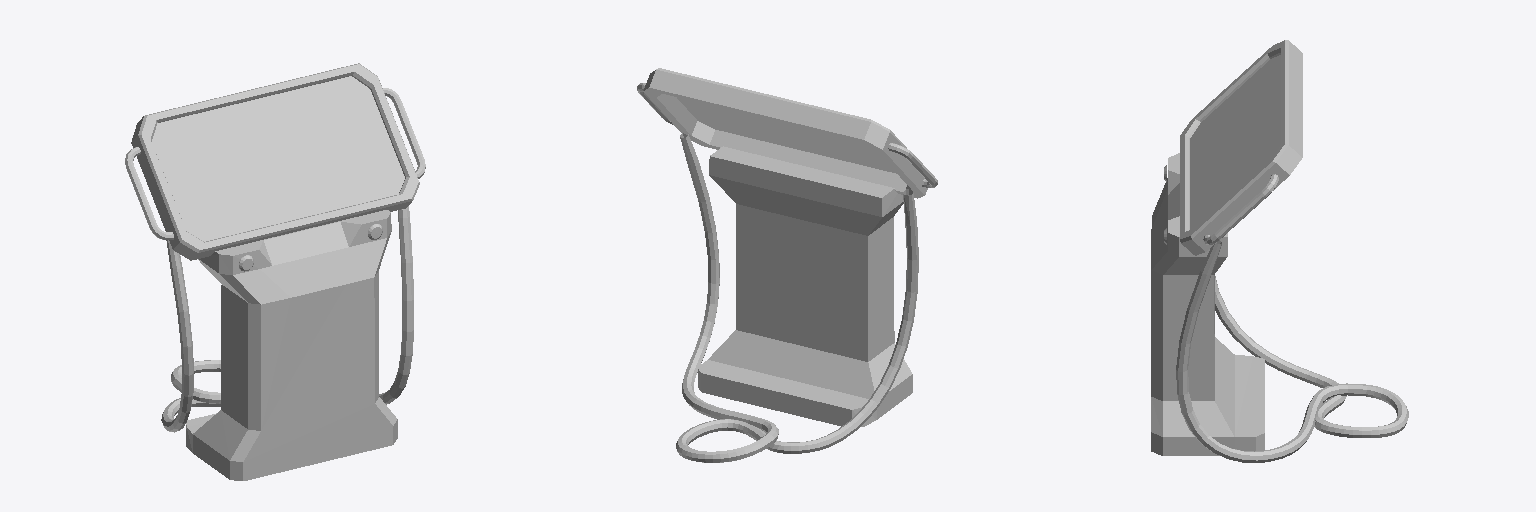
The model's file is consoleBig.obj.
3 renders of one model, left to right at view 1: azimuth 30°, elevation 25°; view 2: azimuth 150°, elevation 25°; view 3: azimuth 270°, elevation 25°, orthographic.
Parts seen in each view (by area): view 1: big_console, bigconsoleGlass; view 2: big_console, bigconsoleGlass; view 3: big_console, bigconsoleGlass.
Part boxes in pixels (left/top/right/bottom): big_console: left=125, top=63, right=425, bottom=480; bigconsoleGlass: left=152, top=76, right=404, bottom=241; big_console: left=637, top=68, right=937, bottom=462; bigconsoleGlass: left=677, top=97, right=896, bottom=173; big_console: left=1151, top=40, right=1408, bottom=462; bigconsoleGlass: left=1190, top=55, right=1280, bottom=229.
Size of the model in its own units: 1.45 by 1.65 by 1.18.